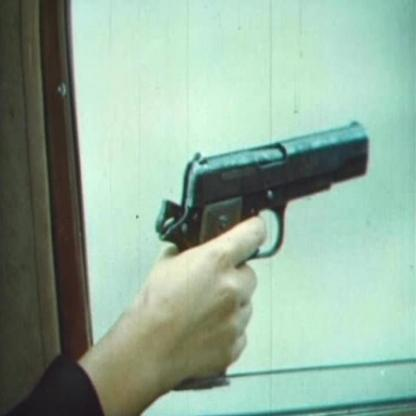gun: (148, 110, 375, 284)
